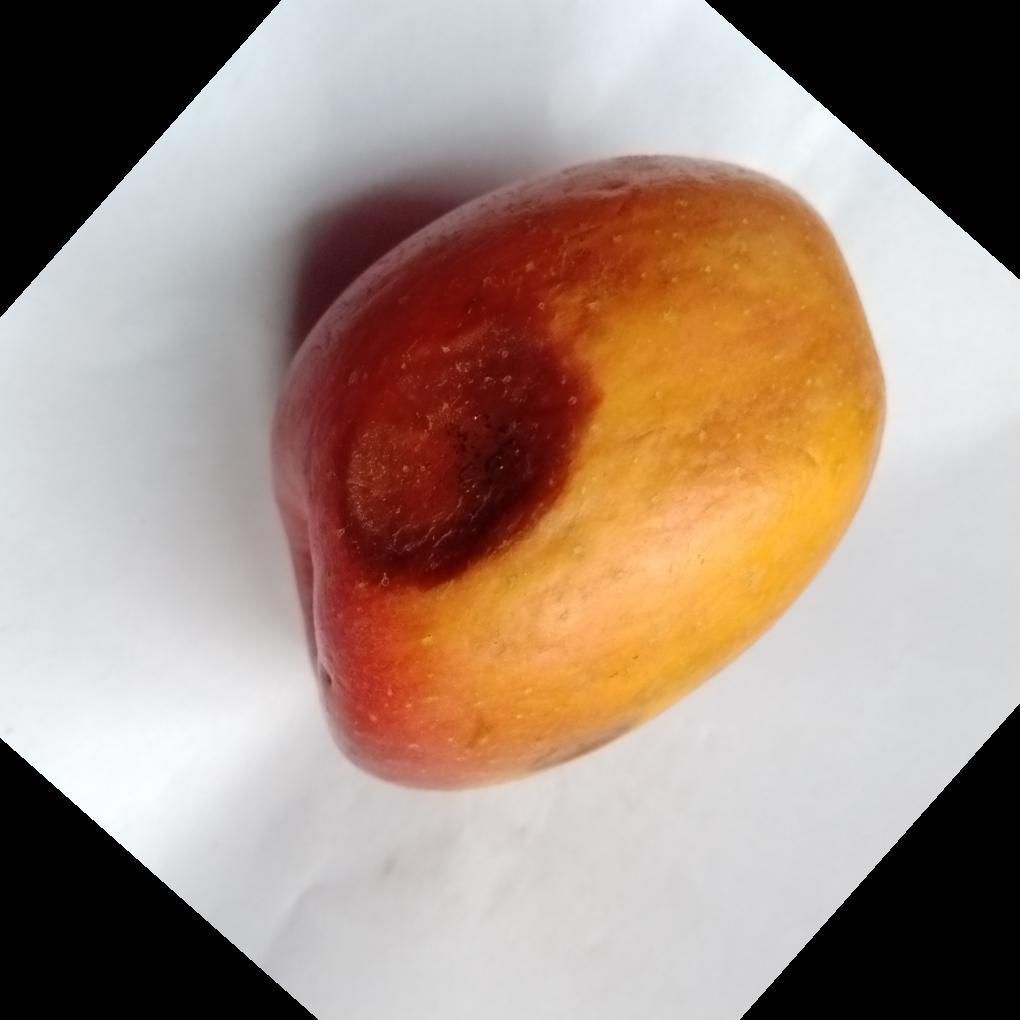FreshOrange: (267, 155, 888, 796)
